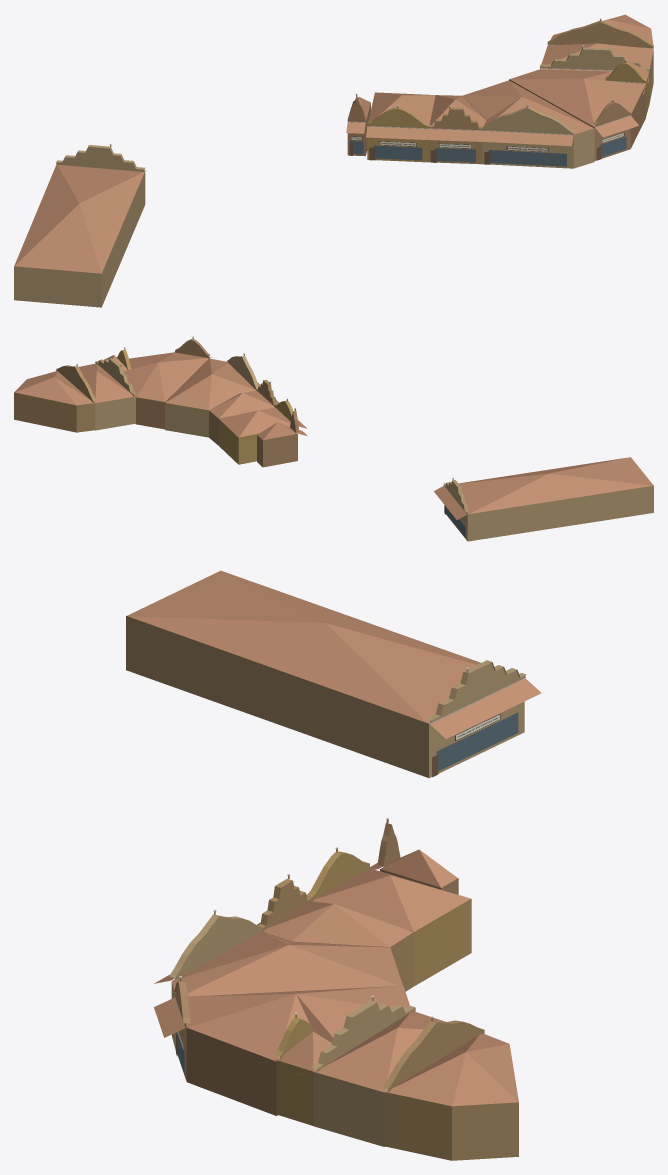
File: ora_seaport.glb
The picture shows the model from 3 angles, top to bottom: view 1: azimuth 30°, elevation 25°; view 2: azimuth 150°, elevation 25°; view 3: azimuth 270°, elevation 25°; orthographic projection. The views are drawn at different scales.
Parts seen in each view (by area): view 1: ora_seaport_lod0; view 2: ora_seaport_lod0; view 3: ora_seaport_lod0.
Part boxes in pixels (bbox=[...]): ora_seaport_lod0: bbox=[14, 14, 653, 307]; ora_seaport_lod0: bbox=[14, 336, 653, 541]; ora_seaport_lod0: bbox=[126, 570, 541, 1160].
Size of the model in its own units: 139 by 13.9 by 43.9.
Materials: 2 (1 with a texture image).
